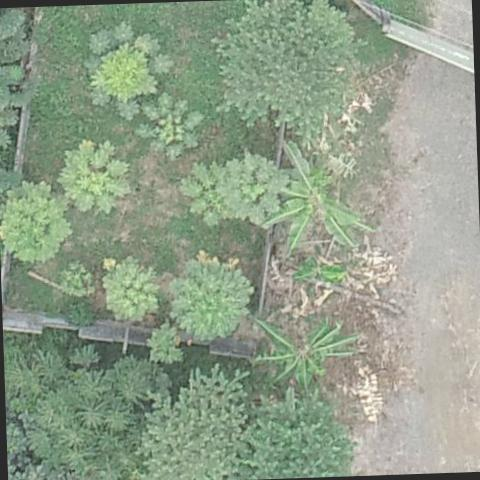Banana-plant: (249, 304, 359, 397), (280, 148, 371, 256), (292, 245, 347, 293)
